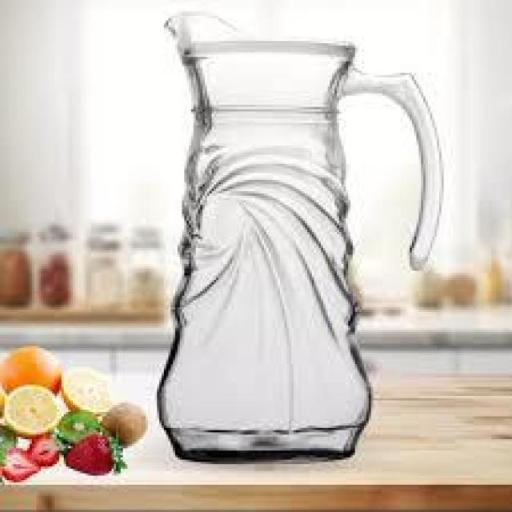glass: (158, 15, 441, 462)
